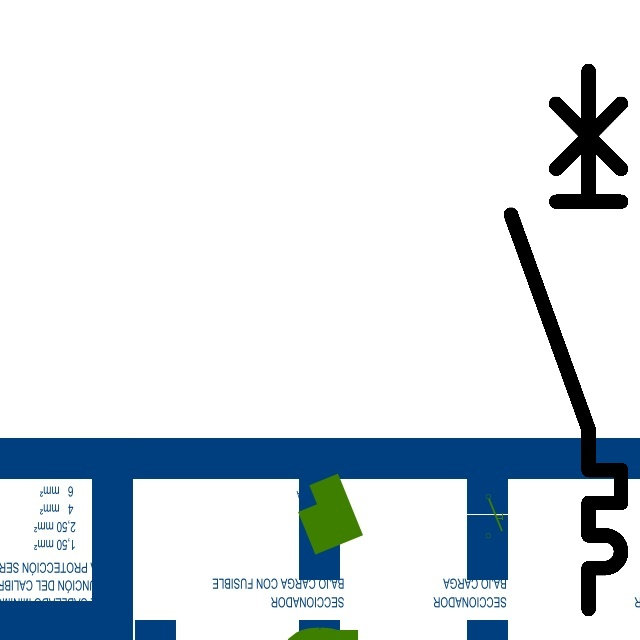interruptor_termomagnetico: (497, 57, 635, 623)
